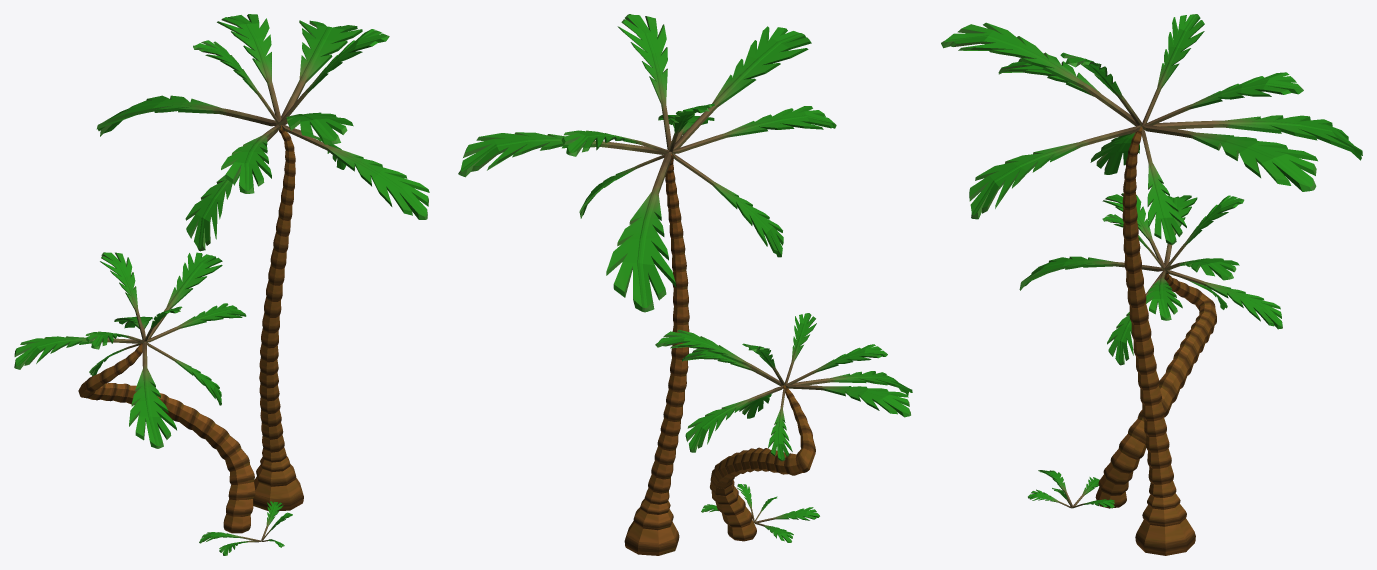
Rendered from PalmPair.glb.
3 views of the same model, side by side, from view 1: azimuth 30°, elevation 25°; view 2: azimuth 150°, elevation 25°; view 3: azimuth 270°, elevation 25° (orthographic). The views are drawn at different scales.
Parts seen in each view (by area): view 1: Trunk.005, Trunk.015; view 2: Trunk.005, Trunk.015; view 3: Trunk.005, Trunk.015.
Boxes of the visible parts, left/top/right/bottom form: Trunk.005: left=96, top=14, right=429, bottom=511; Trunk.015: left=14, top=252, right=292, bottom=555; Trunk.005: left=458, top=14, right=836, bottom=555; Trunk.015: left=655, top=313, right=912, bottom=542; Trunk.005: left=941, top=14, right=1362, bottom=555; Trunk.015: left=1019, top=193, right=1282, bottom=508.
Size of the model in its own units: 24.76 by 28.97 by 21.45.
Materials: 2 (2 with a texture image).
